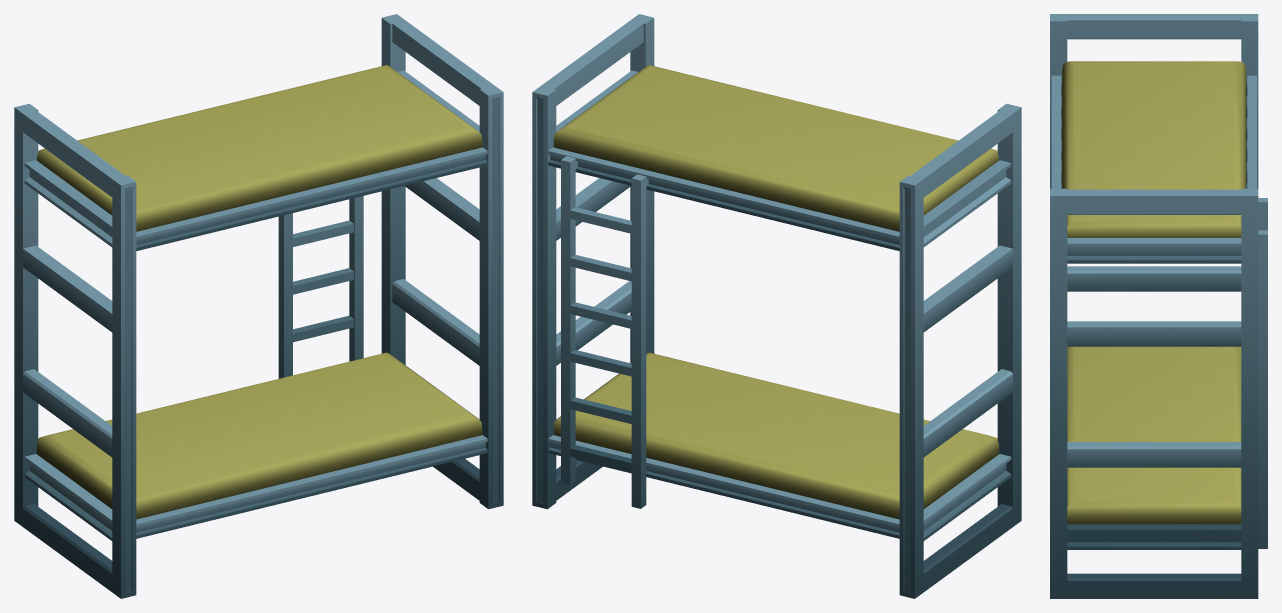
Rendered from Bed.fbx.
The picture shows the model from 3 angles, left to right: view 1: azimuth 30°, elevation 25°; view 2: azimuth 150°, elevation 25°; view 3: azimuth 270°, elevation 25°; orthographic projection. The views are drawn at different scales.
Visible parts, largest first — view 1: Bed; view 2: Bed; view 3: Bed.
Part boxes in pixels (x1,y1,x2,y2): Bed: (14, 14, 503, 598); Bed: (532, 14, 1021, 598); Bed: (1050, 14, 1267, 598).
Bounding box in the file's own units: 1.94 × 0.9796 × 2.
